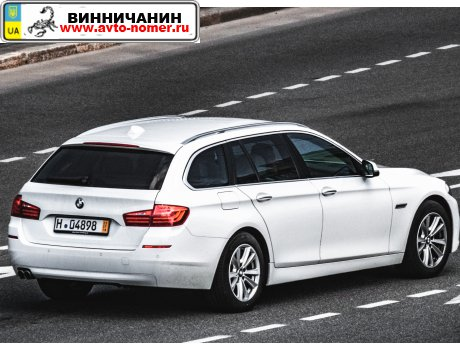License Plates: (55, 214, 104, 233)
